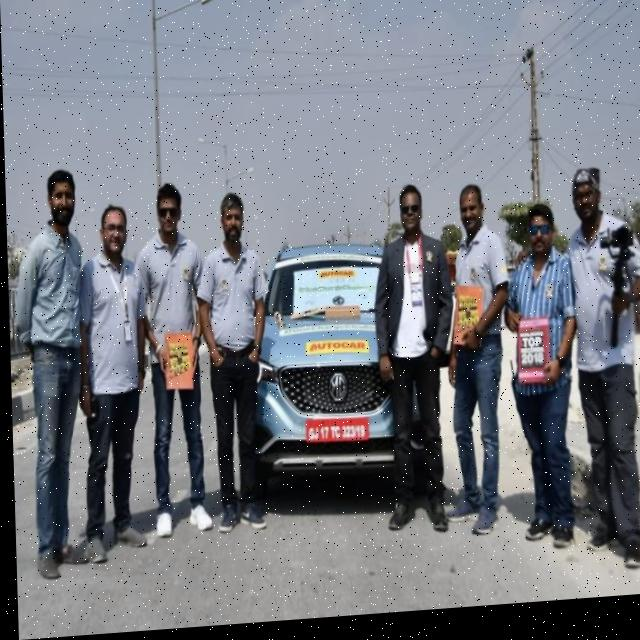plate: (301, 419, 367, 449)
